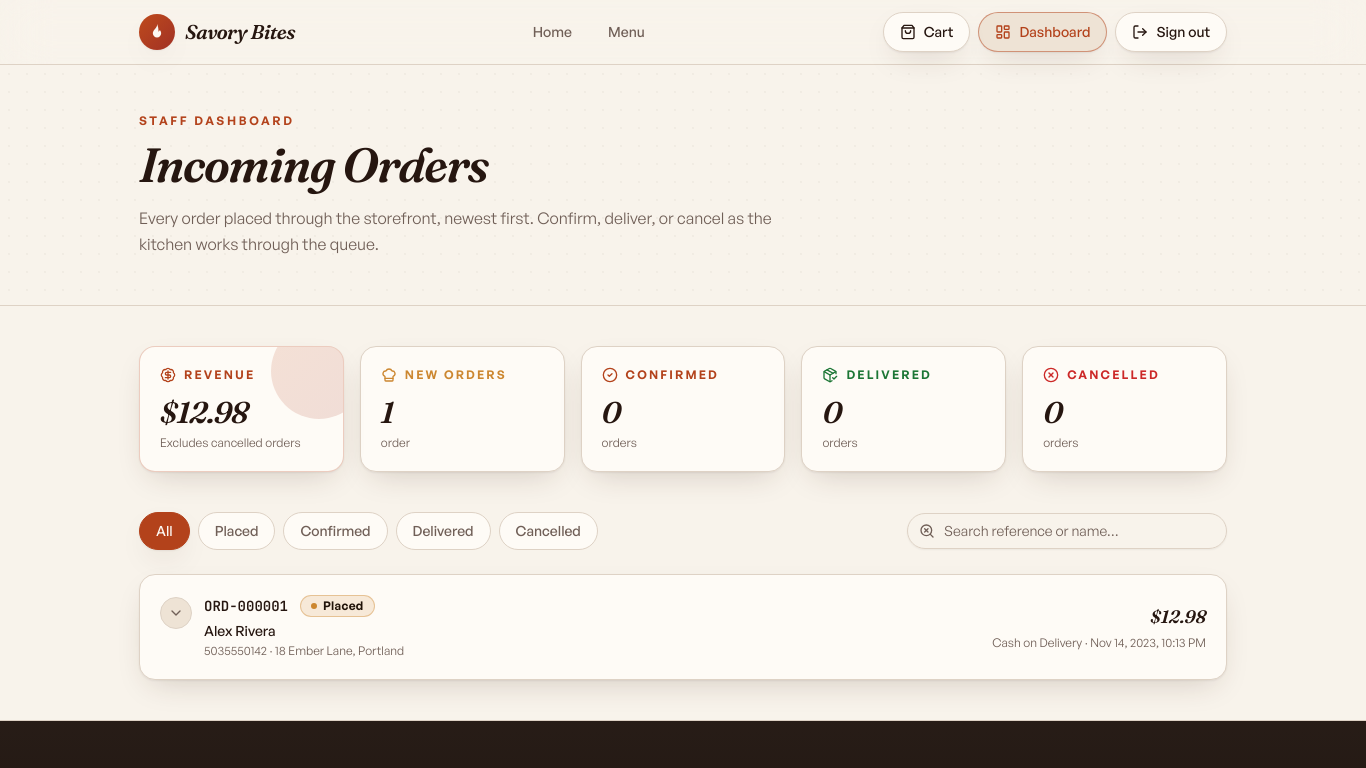
Test: admin dashboard › shows a row-level error when an update is rejected
Expected: the list with test id "admin.order.list" is shown, [139,574,1227,680]
Click the button with test id "admin.order.toggle.1" at (176,613), box [160,595,976,659]
(page scrolled)
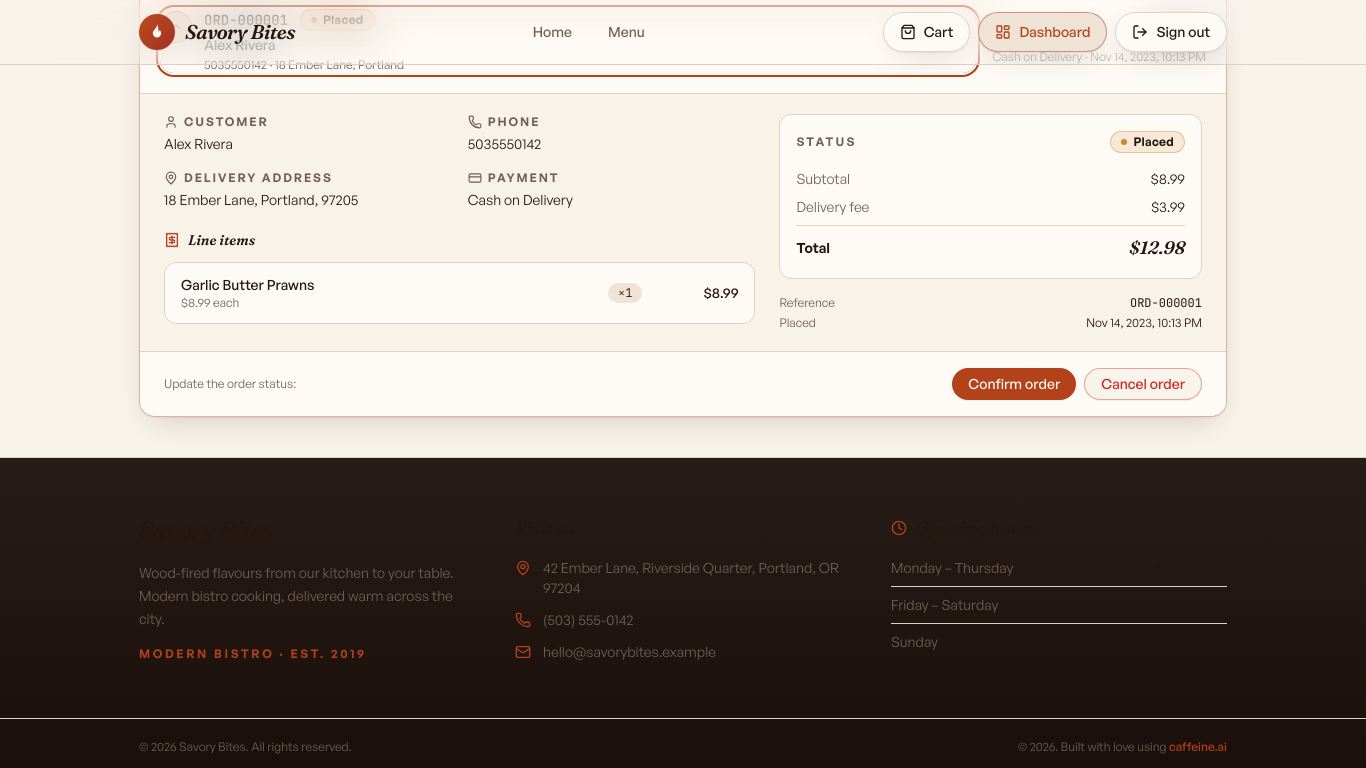
Click the button with test id "admin.order.action.confirmed.1" at (1014,384), box [952,368,1076,400]
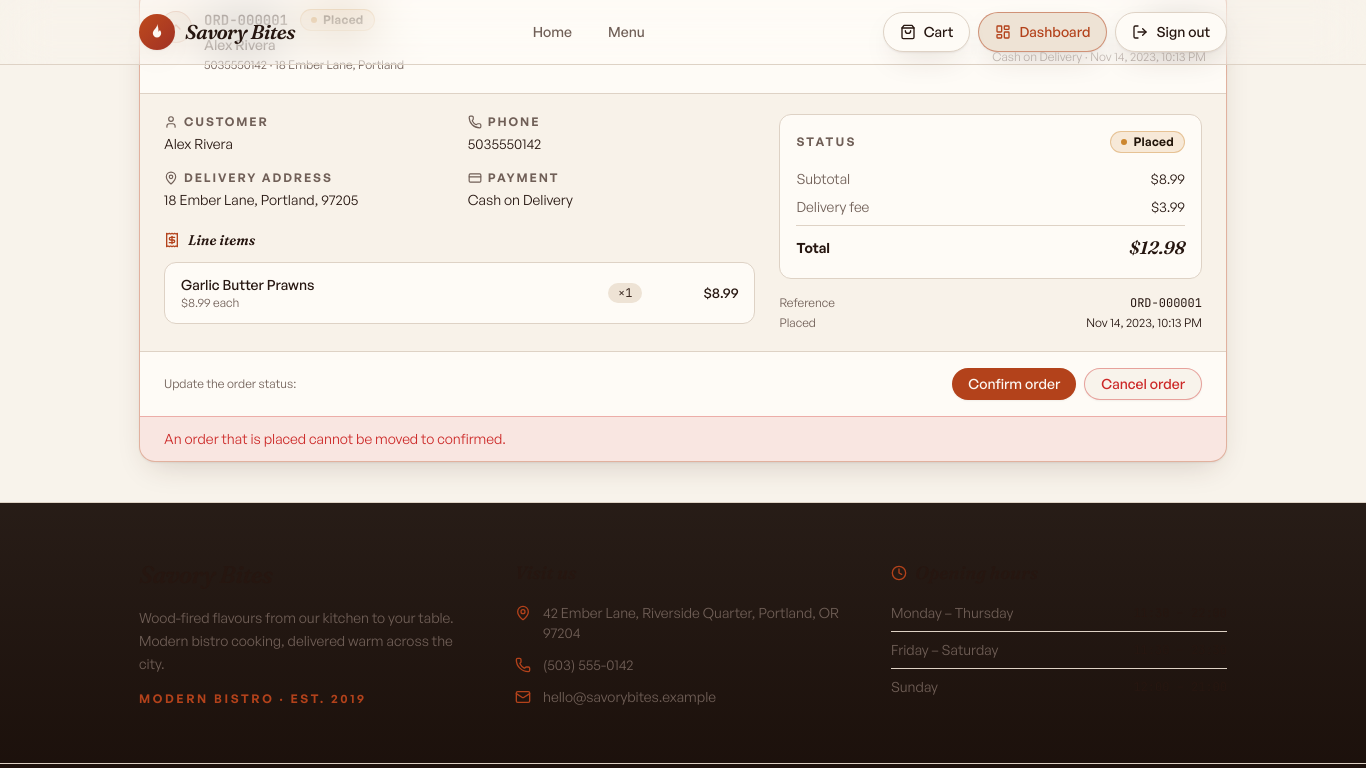
Now the message with test id "admin.order.error.1" shows "cannot be moved to confirmed", box [164,430,506,447]
